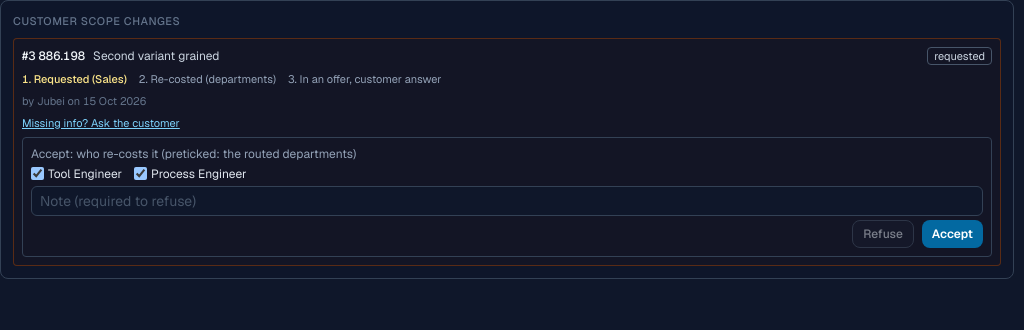
Test case: ScopeChangeCards (§6 [R3]) › missing info is a question: the lead asks, accept waits, Sales files the answer
Later steps or results of the test are not shown.
Click the button with test id "scope-ask-open-3" at (101, 122), box [22,114,180,130]
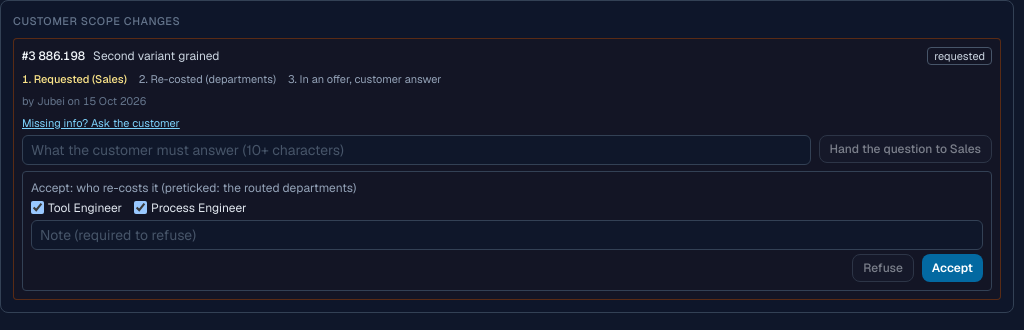
Type "grain?" into the field with test id "scope-ask-text-3" at (416, 150), box [22,134,810,164]
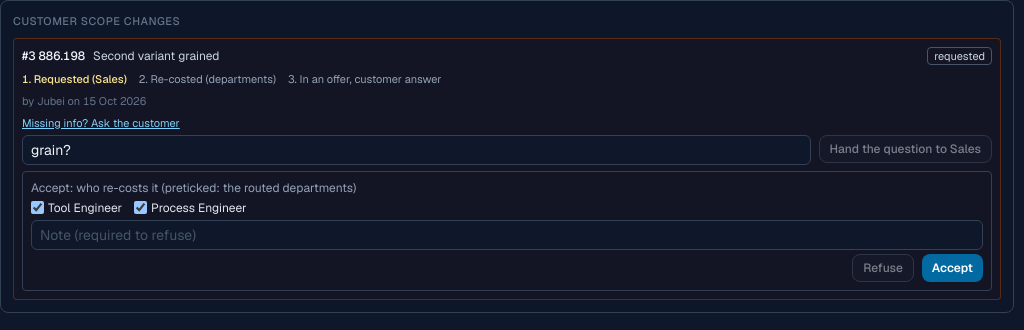
Expected: the button with test id "scope-ask-save-3" is disabled, [818,134,992,162]
Replace the text in the field with test id "scope-ask-text-3" with "Which grain: K31 or K45?" at (416, 150), box [22,134,810,164]
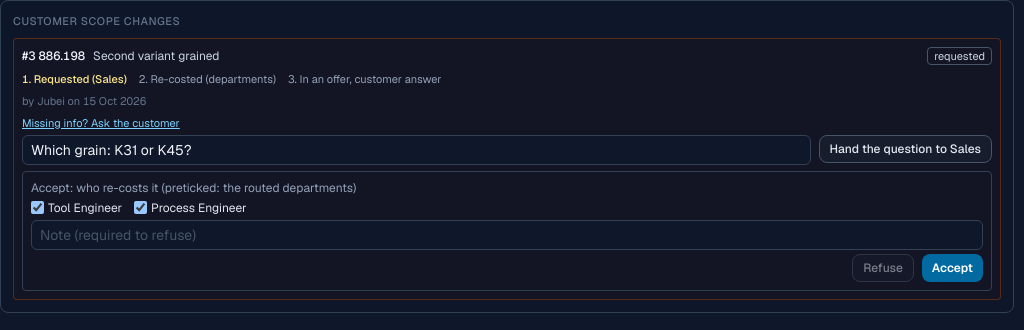
Click the button with test id "scope-ask-save-3" at (905, 148), box [818,134,992,162]
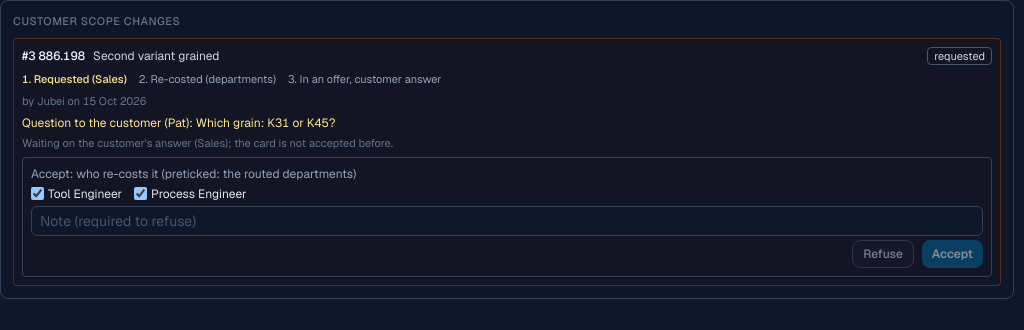
Expected: the element with test id "scope-question-3" shows "Which grain", [22,114,336,130]
Expected: the button with test id "scope-accept-3" is disabled, [922,240,983,268]
